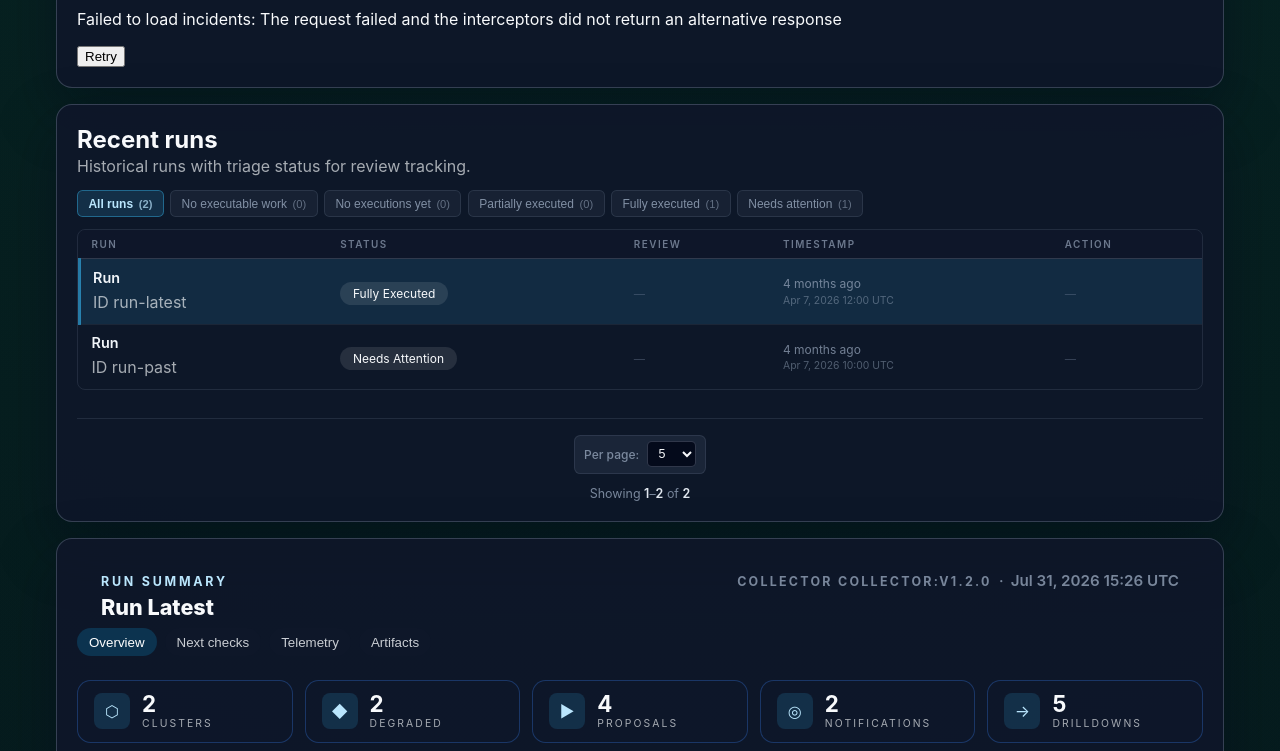
Test: Selected-run immediate refresh regression › Scenario D: late stale latest response cannot overwrite correctly-displayed past-run UI
(page scrolled)
Click the button with aria-label "Run undefined, unreviewed, selected: false" at {"x": 641, "y": 356}, box [80, 324, 1202, 389]
(page scrolled)
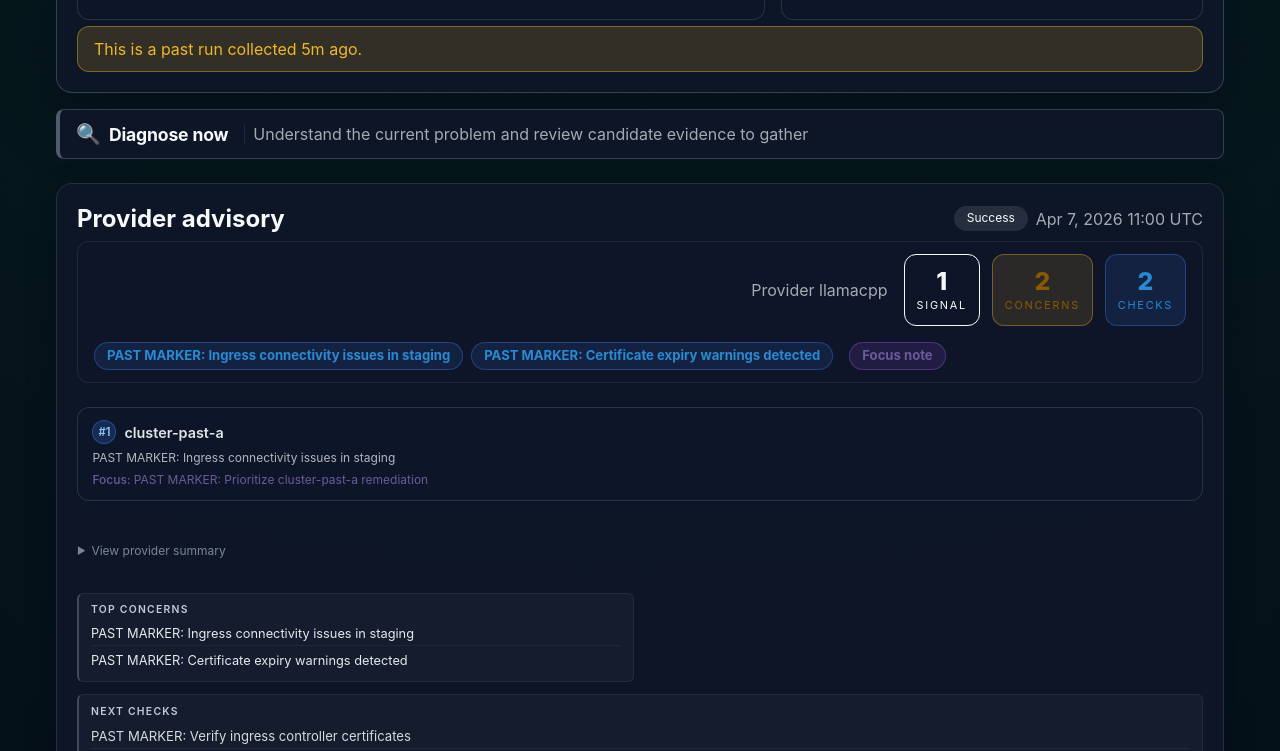
Expected: the text "PAST MARKER: Ingress connectivity issues in staging" in the row of "Focus note" is shown, [107, 348, 450, 364]
